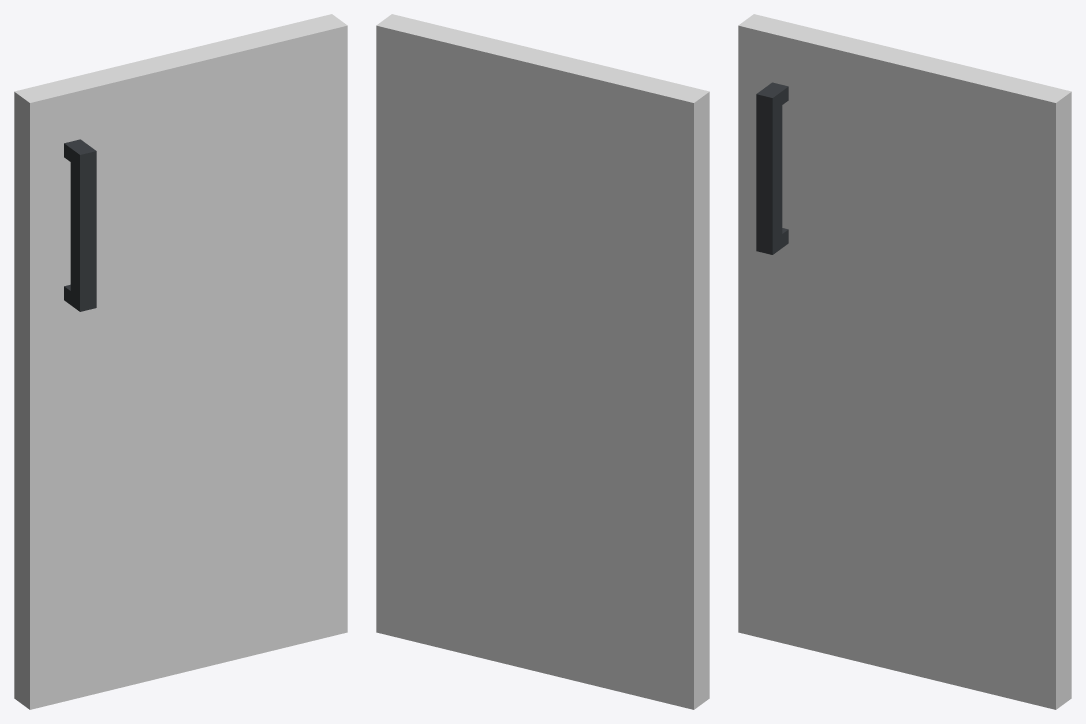
Rendered from Door1_C1_09.fbx.
3 views of the same model, side by side, from view 1: azimuth 30°, elevation 25°; view 2: azimuth 150°, elevation 25°; view 3: azimuth 330°, elevation 25° (orthographic).
Parts seen in each view (by area): view 1: Door1_C1_09; view 2: Door1_C1_09; view 3: Door1_C1_09.
Boxes of the visible parts, bbox=[...] form: Door1_C1_09: bbox=[14, 14, 347, 709]; Door1_C1_09: bbox=[376, 14, 709, 709]; Door1_C1_09: bbox=[738, 14, 1071, 709].
Size of the model in its own units: 29 by 52.92 by 5.03.
